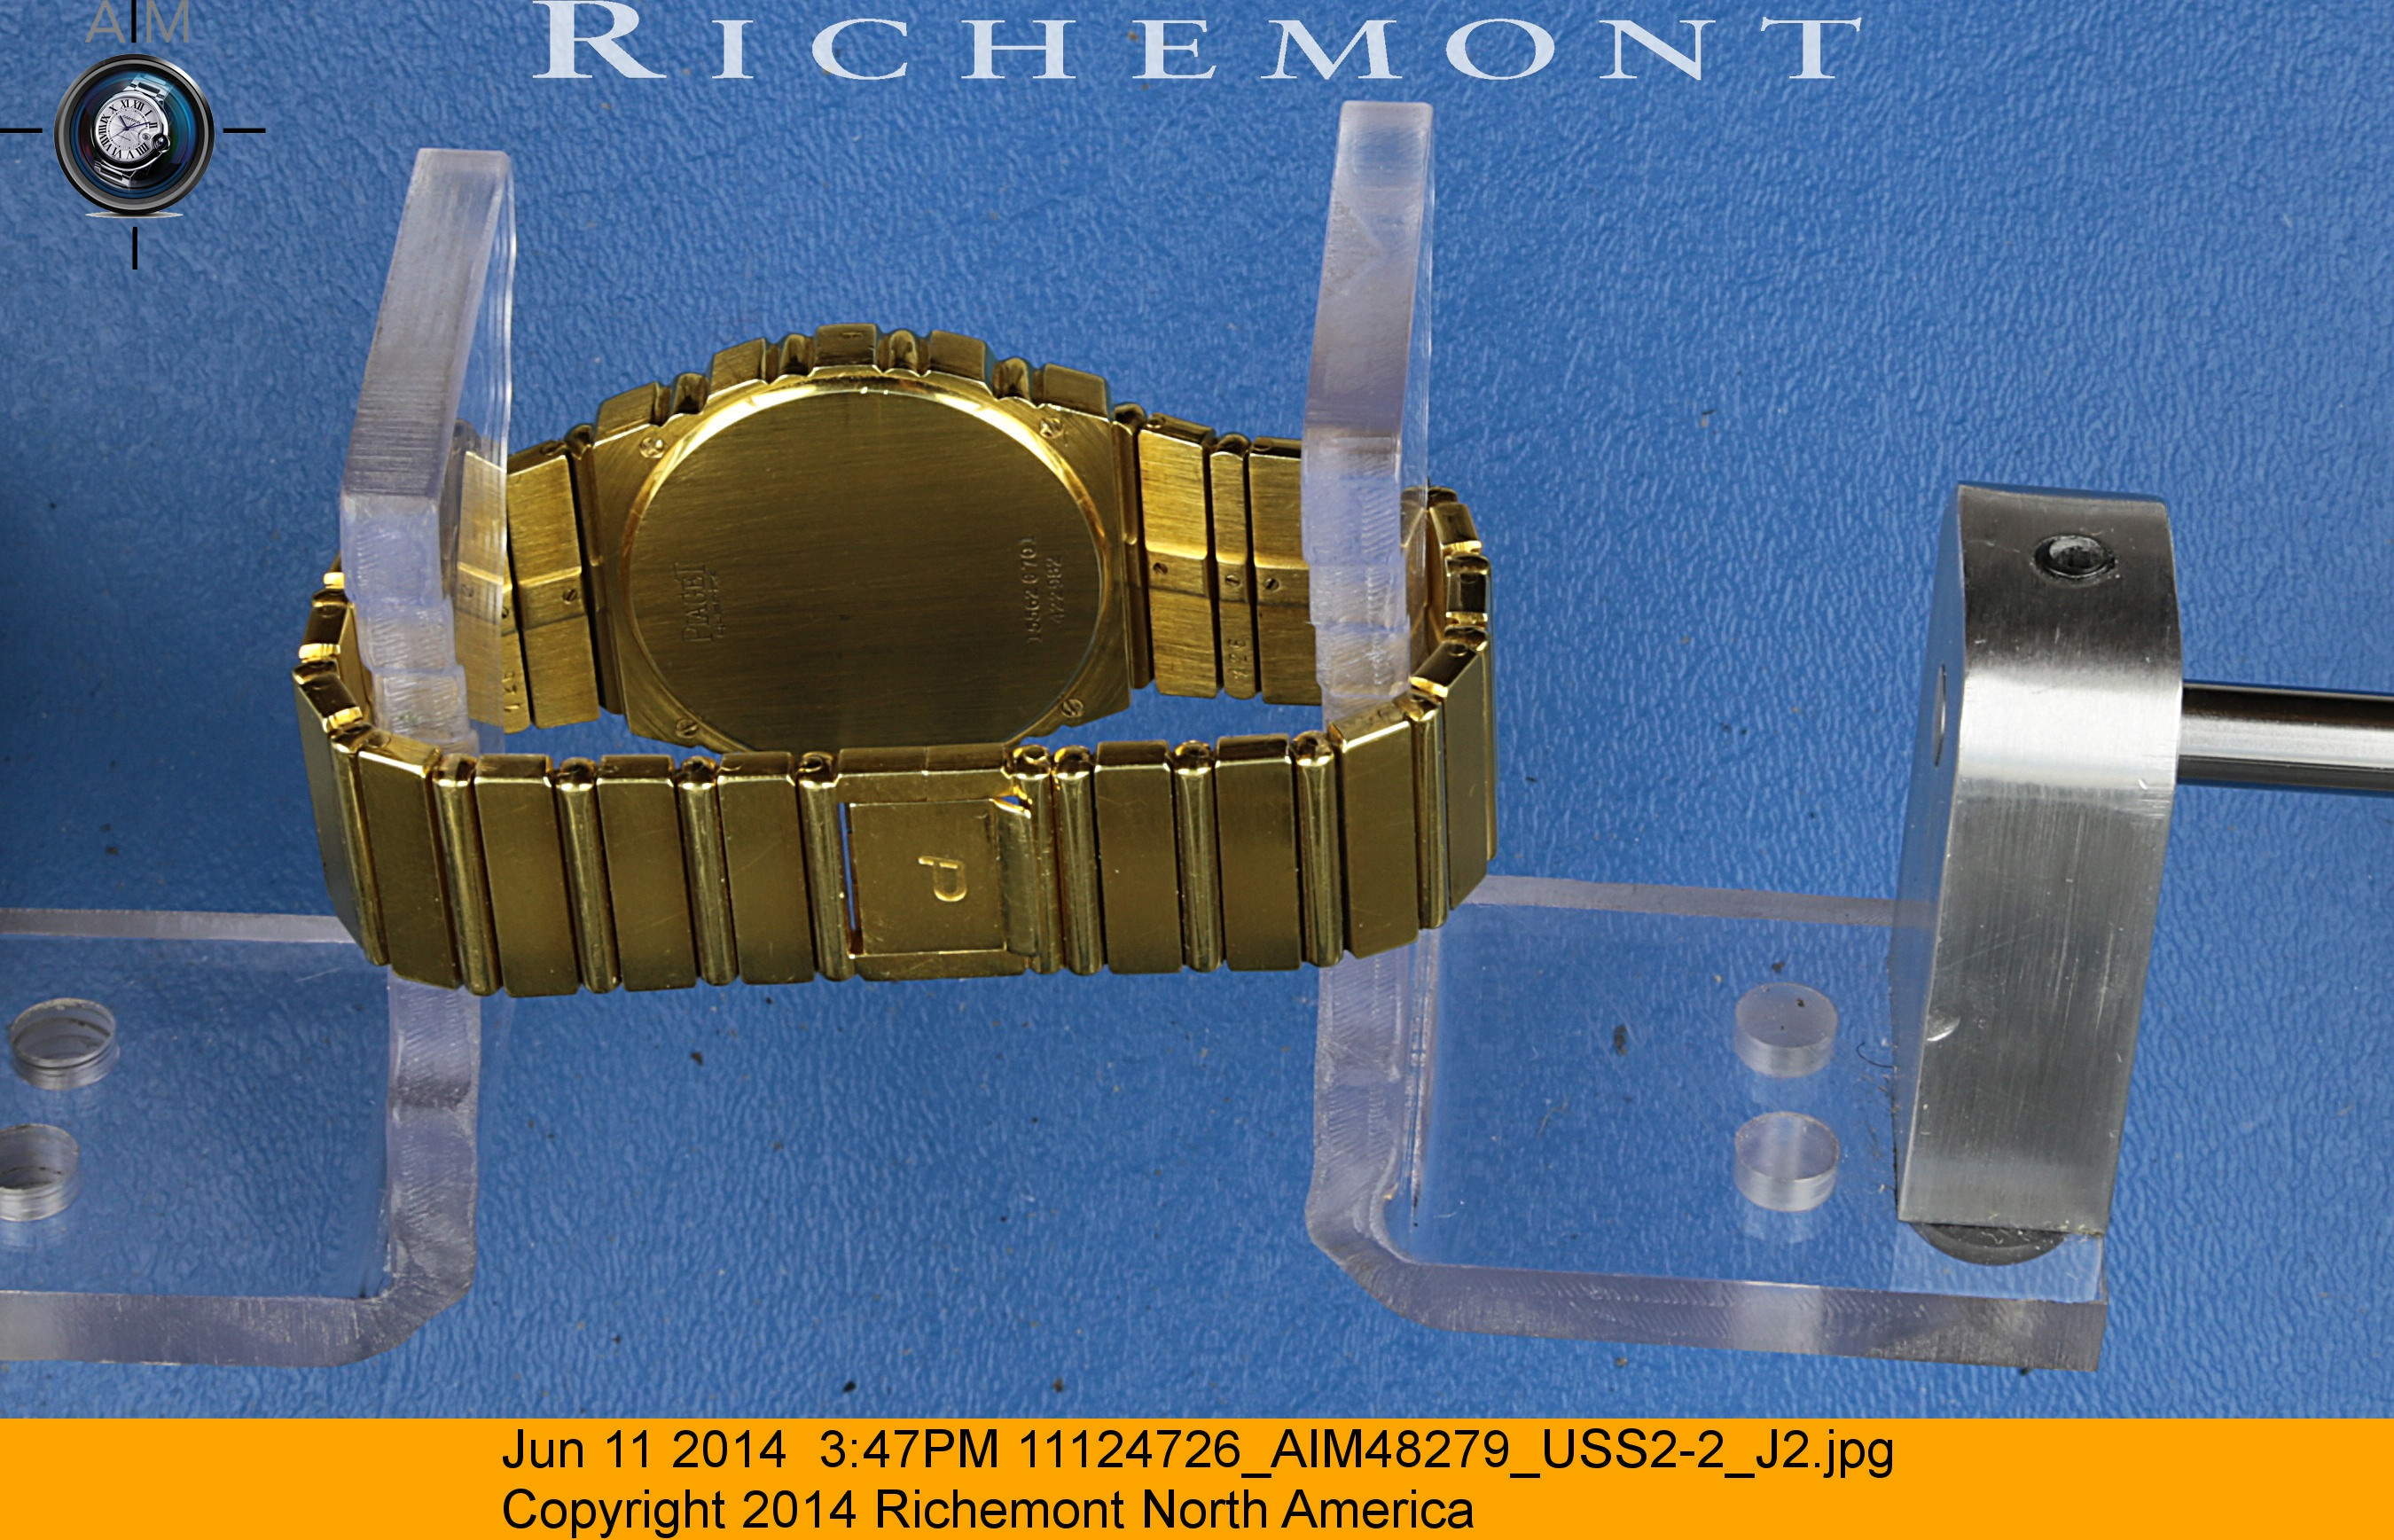Watch BackCase: (612, 373, 1127, 752)
